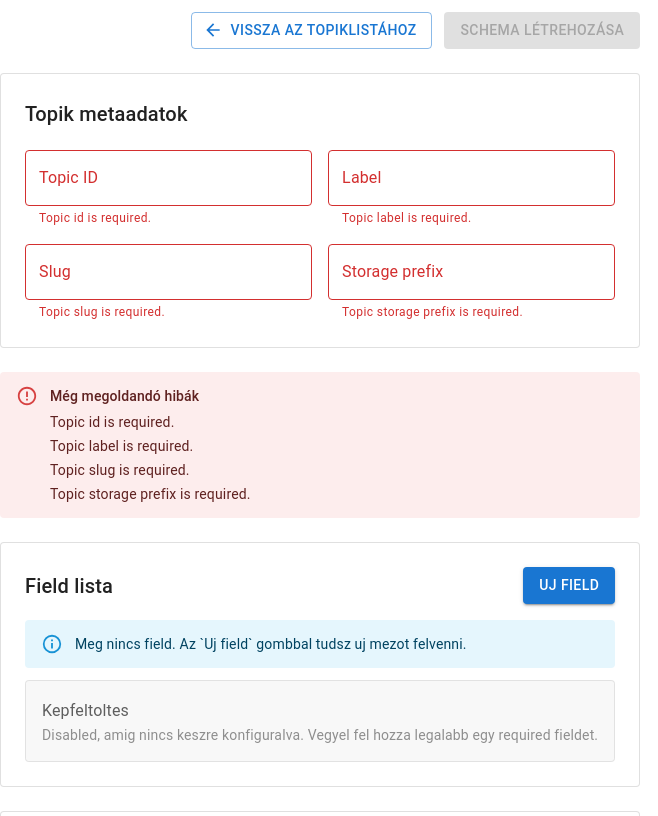
Test: TopicSchemaBuilderPage › shows metadata validation errors in create mode until required fields are filled
Expected: the text "Topic id is required." below "Topik metaadatok" is shown, [39,210,151,224]
Expected: the text "Topic label is required." below "Topik metaadatok" is shown, [342,210,472,224]
Step 1. Type "art" into the field labelled "Topic ID" → (169, 178), box [25,150,312,206]
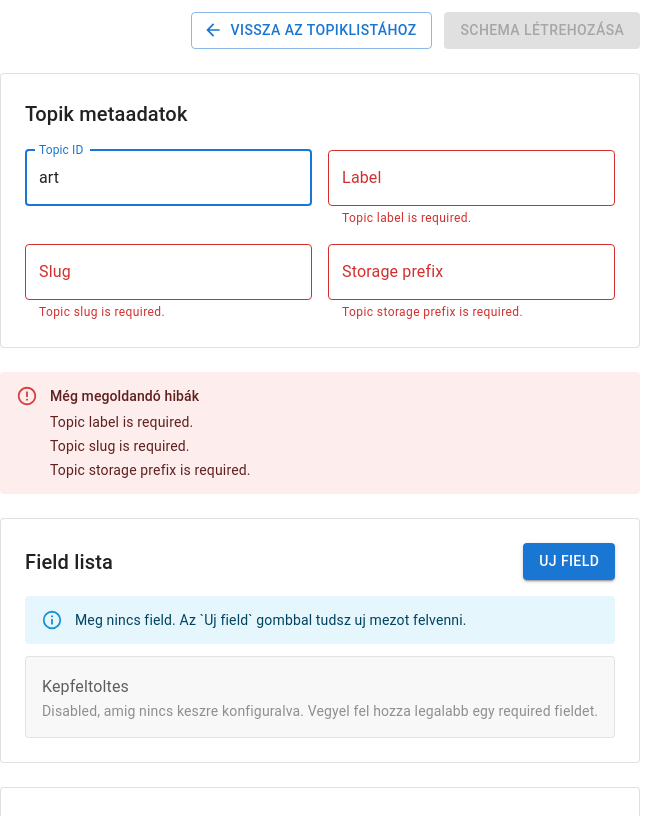
Step 2. Type "Muveszet" into the field labelled "Label" → (472, 178), box [328,150,615,206]
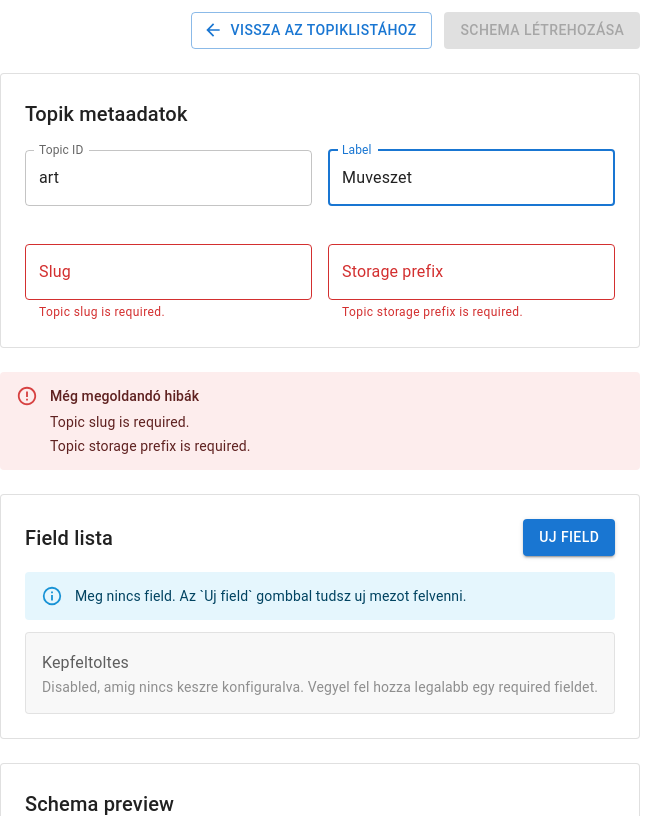
Step 3. Type "art" into the field labelled "Slug" → (169, 272), box [25,244,312,300]
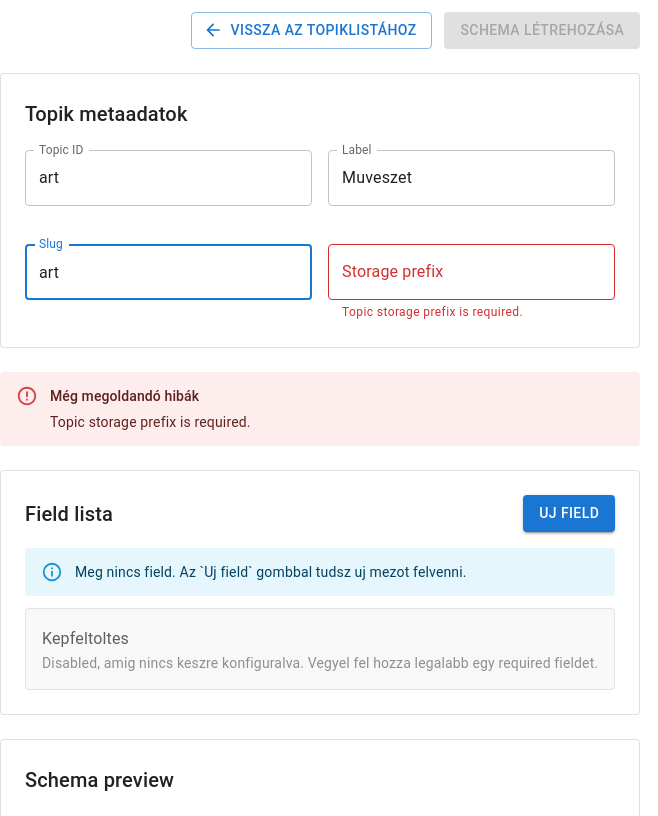
Step 4. Type "art" into the field labelled "Storage prefix" → (472, 272), box [328,244,615,300]
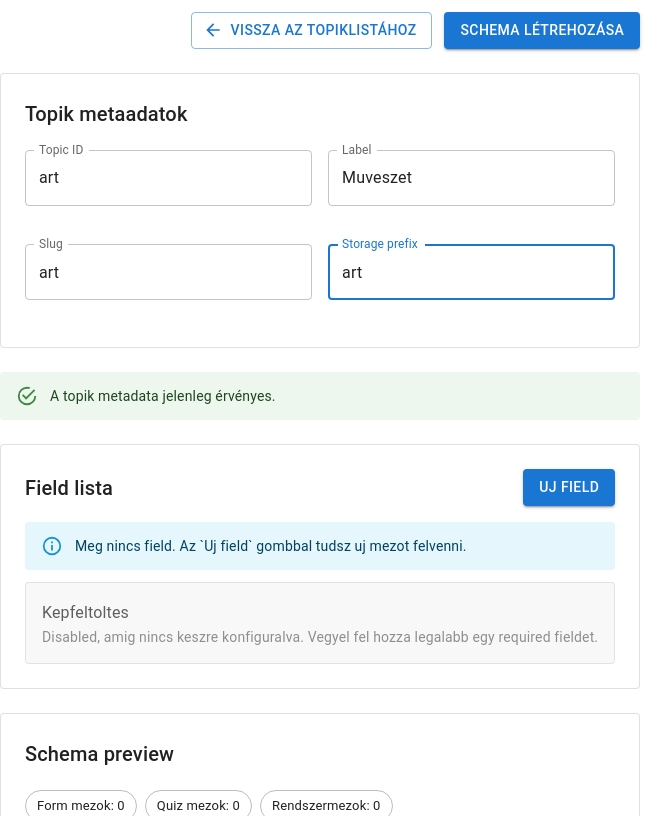
Result: the text "A topik metadata jelenleg érvényes." is shown at [50,388,276,404]
